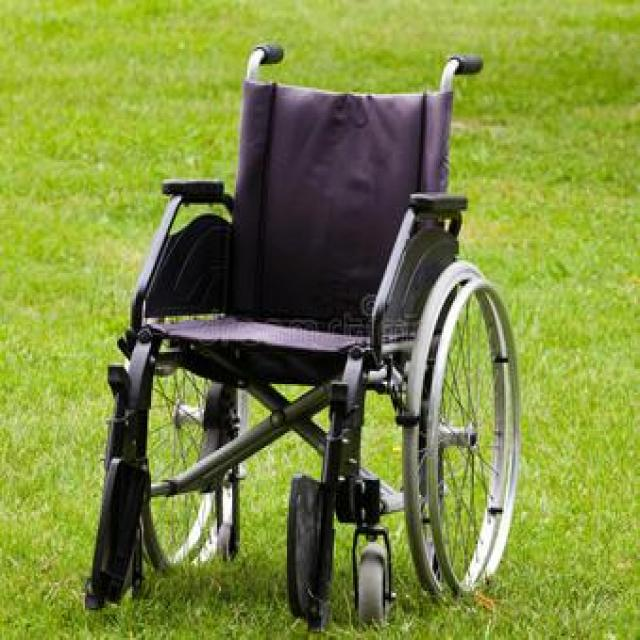wheelchairs: (69, 8, 532, 620)
